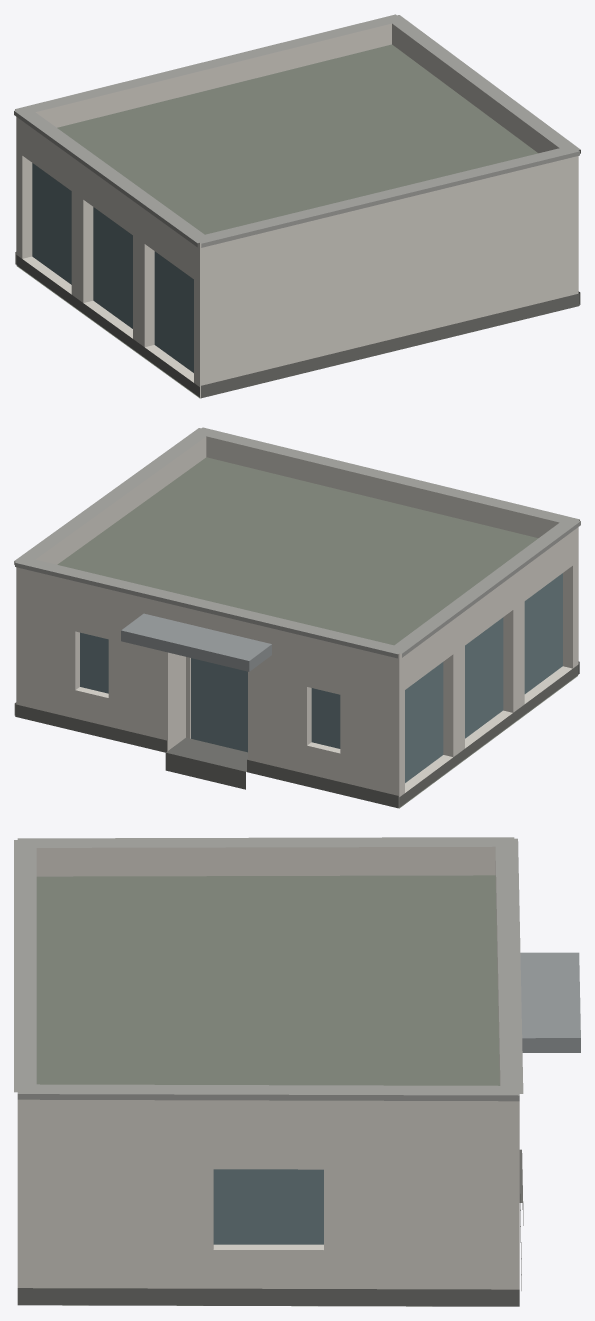
3 renders of one model, top to bottom at view 1: azimuth 30°, elevation 25°; view 2: azimuth 150°, elevation 25°; view 3: azimuth 270°, elevation 25°, orthographic. The views are drawn at different scales.
Parts seen in each view (by area): view 1: cafeSerio2__wall, cafeSerio2__roof, cafeSerio2__parapet, cafeSerio2__trim, cafeSerio2__glass, cafeSerio2__base; view 2: cafeSerio2__roof, cafeSerio2__wall, cafeSerio2__parapet, cafeSerio2__glass, cafeSerio2__trim, cafeSerio2__base, cafeSerio2__canopy; view 3: cafeSerio2__roof, cafeSerio2__wall, cafeSerio2__parapet, cafeSerio2__trim, cafeSerio2__base, cafeSerio2__glass, cafeSerio2__canopy.
Part boxes in pixels (x1,y1,x2,y2): cafeSerio2__wall: [16, 131, 578, 397]; cafeSerio2__roof: [17, 44, 537, 398]; cafeSerio2__parapet: [16, 23, 578, 263]; cafeSerio2__trim: [14, 14, 580, 247]; cafeSerio2__glass: [32, 163, 193, 372]; cafeSerio2__base: [15, 252, 580, 398]; cafeSerio2__roof: [57, 457, 577, 808]; cafeSerio2__wall: [16, 541, 578, 807]; cafeSerio2__parapet: [16, 436, 578, 673]; cafeSerio2__glass: [80, 573, 562, 782]; cafeSerio2__trim: [14, 427, 580, 658]; cafeSerio2__base: [14, 661, 579, 808]; cafeSerio2__canopy: [121, 613, 271, 671]; cafeSerio2__roof: [36, 875, 499, 1306]; cafeSerio2__wall: [17, 1121, 519, 1289]; cafeSerio2__parapet: [17, 846, 519, 1122]; cafeSerio2__trim: [14, 837, 523, 1101]; cafeSerio2__base: [17, 1149, 523, 1306]; cafeSerio2__glass: [213, 1169, 323, 1244]; cafeSerio2__canopy: [520, 952, 580, 1052].
Bounding box in the file's own units: 9.68 × 4.1 × 8.98.
